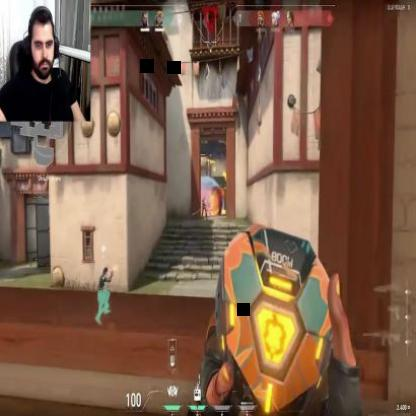enemy: (202, 195, 207, 219)
enemy_head: (204, 196, 206, 200)
